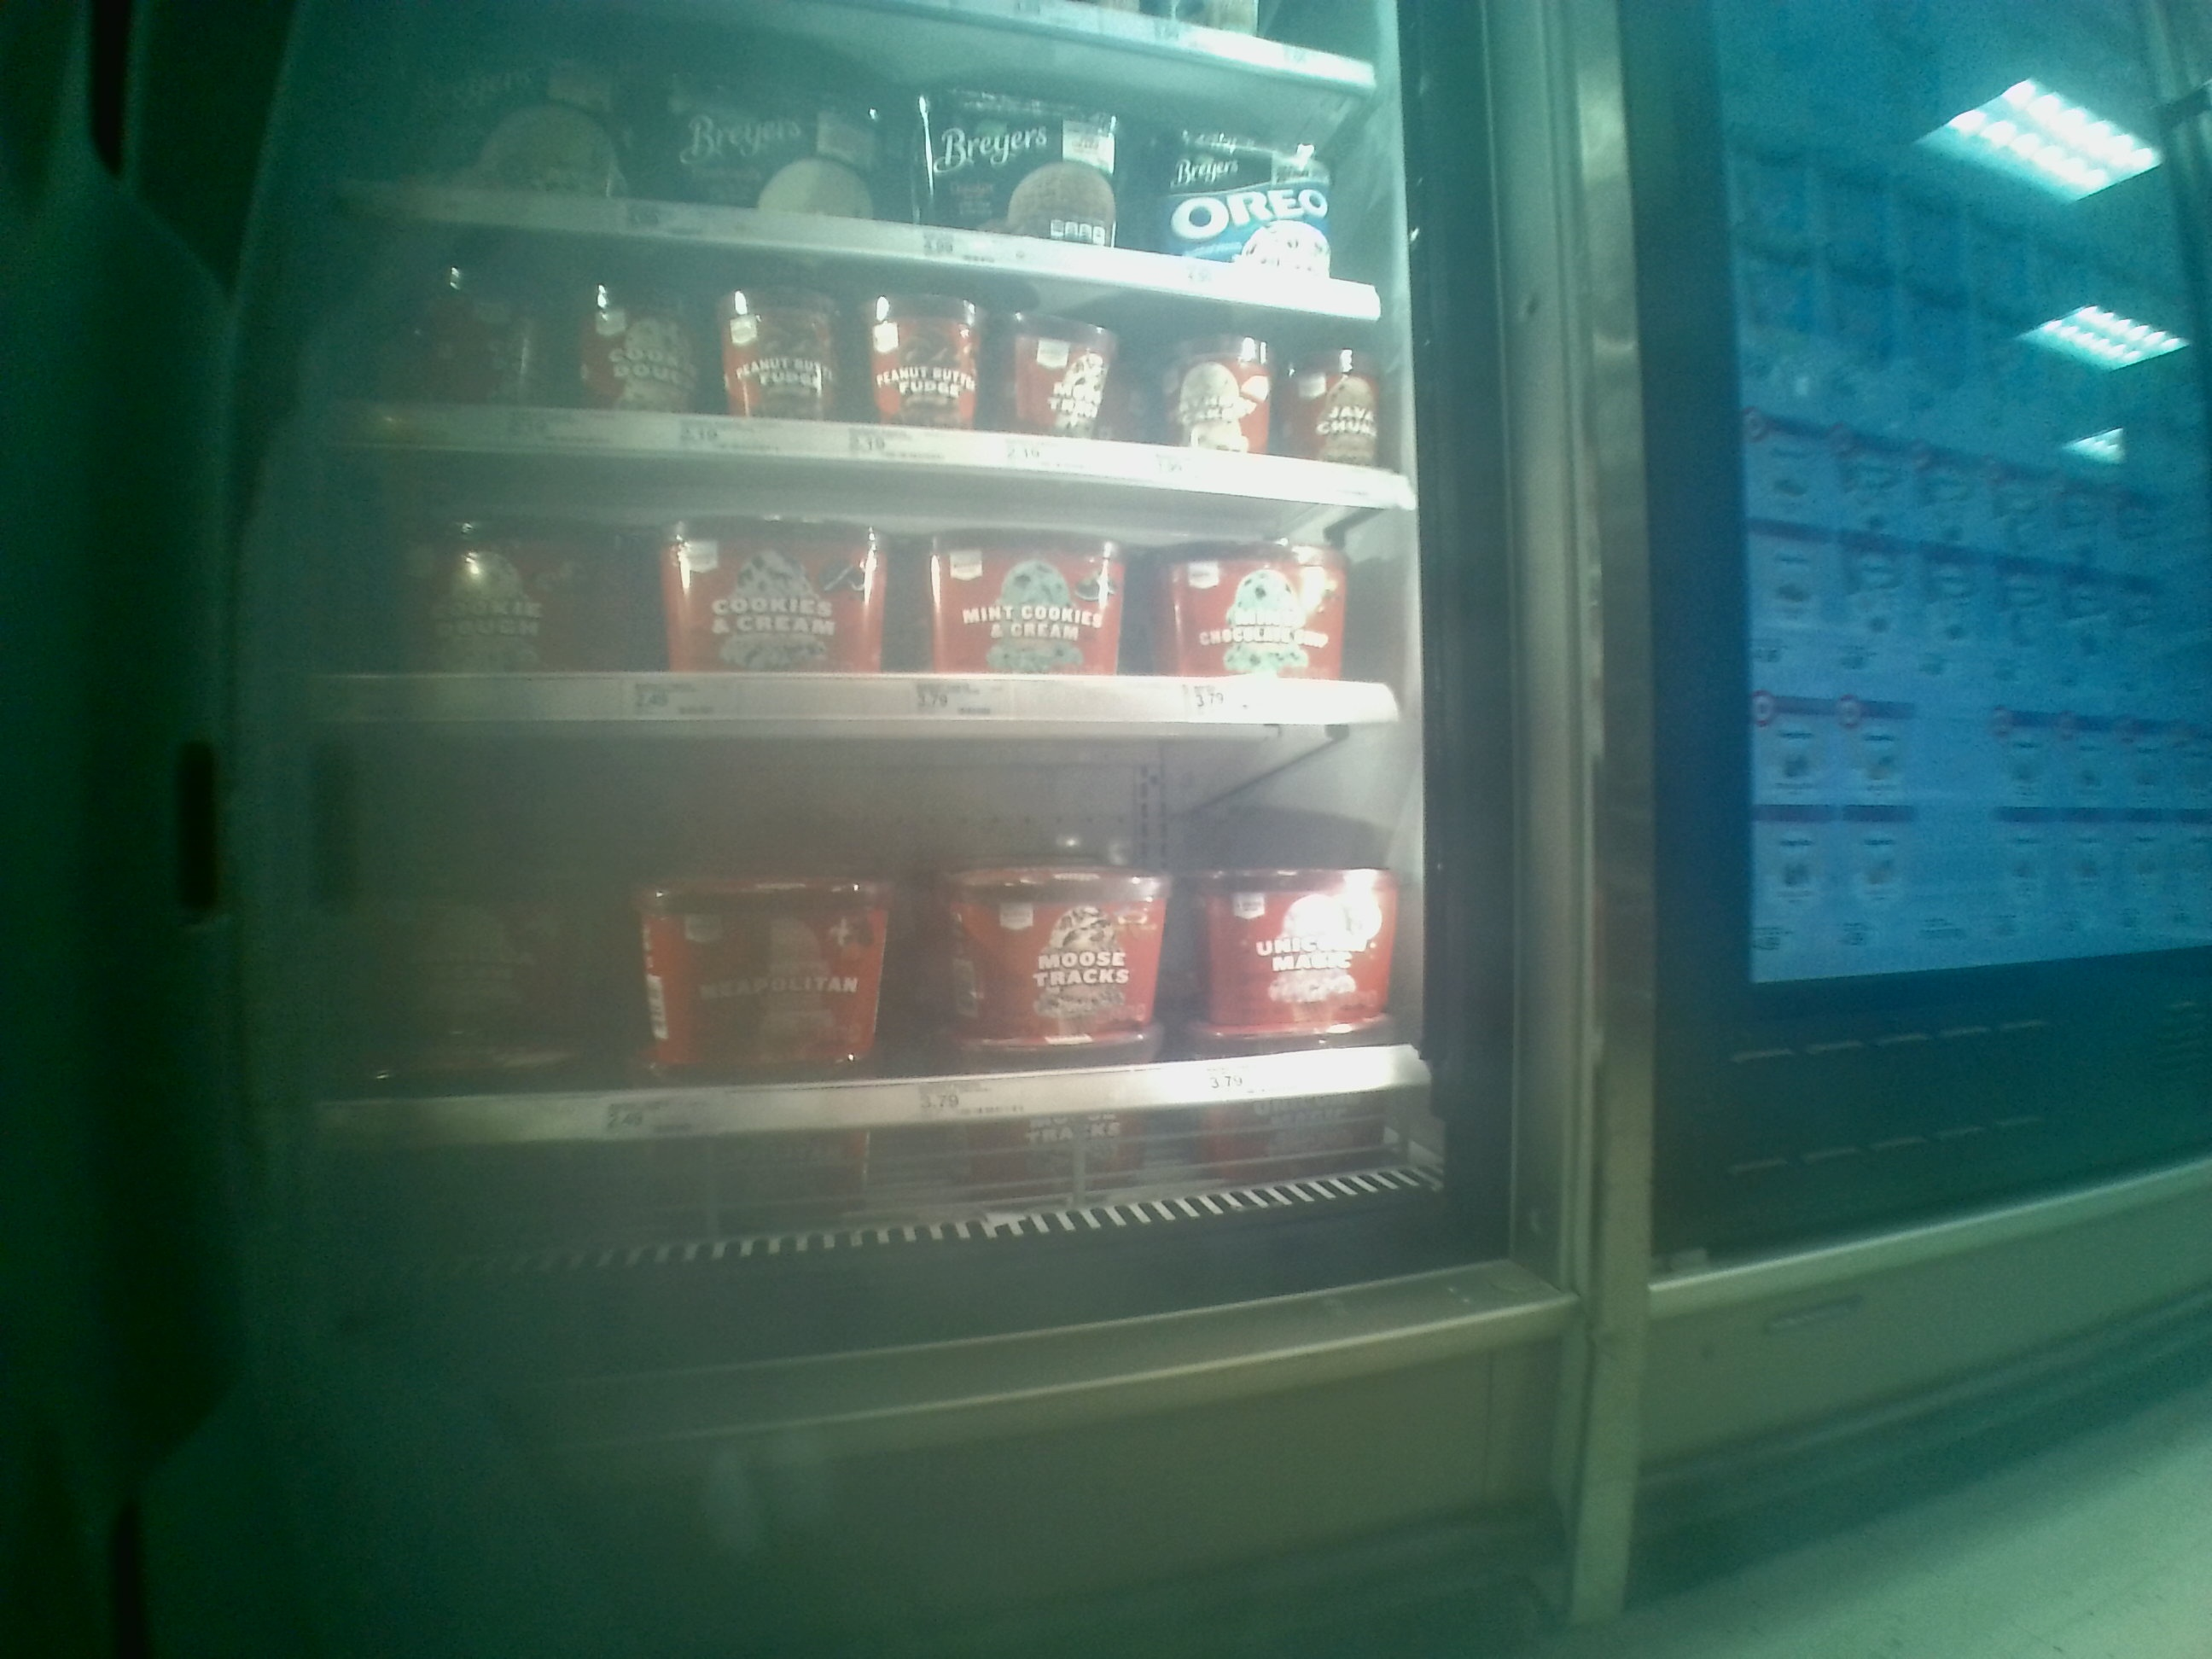shelf: (296, 725, 1423, 1138), (310, 505, 1402, 734), (327, 312, 1400, 514)
